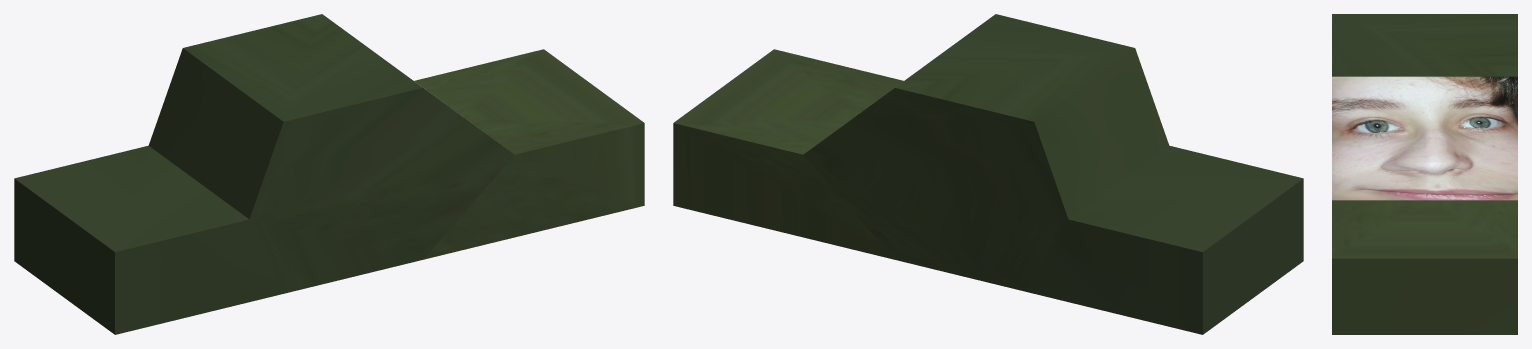
The model's file is davmobile_body.glb.
3 renders of one model, left to right at view 1: azimuth 30°, elevation 25°; view 2: azimuth 150°, elevation 25°; view 3: azimuth 270°, elevation 25°, orthographic. The views are drawn at different scales.
Visible parts, largest first — view 1: Cube.001; view 2: Cube.001; view 3: Cube.001.
Boxes of the visible parts, <box> form: Cube.001: <box>14,14,644,334</box>; Cube.001: <box>673,14,1303,334</box>; Cube.001: <box>1332,14,1517,334</box>.
Size of the model in its own units: 6.06 by 1.88 by 2.
1 material, 1 textured.
